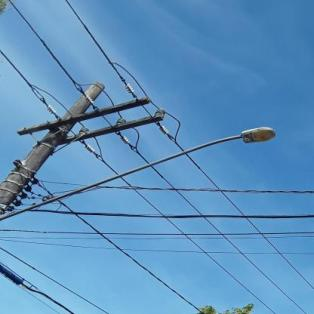Poste: (0, 80, 108, 214)
